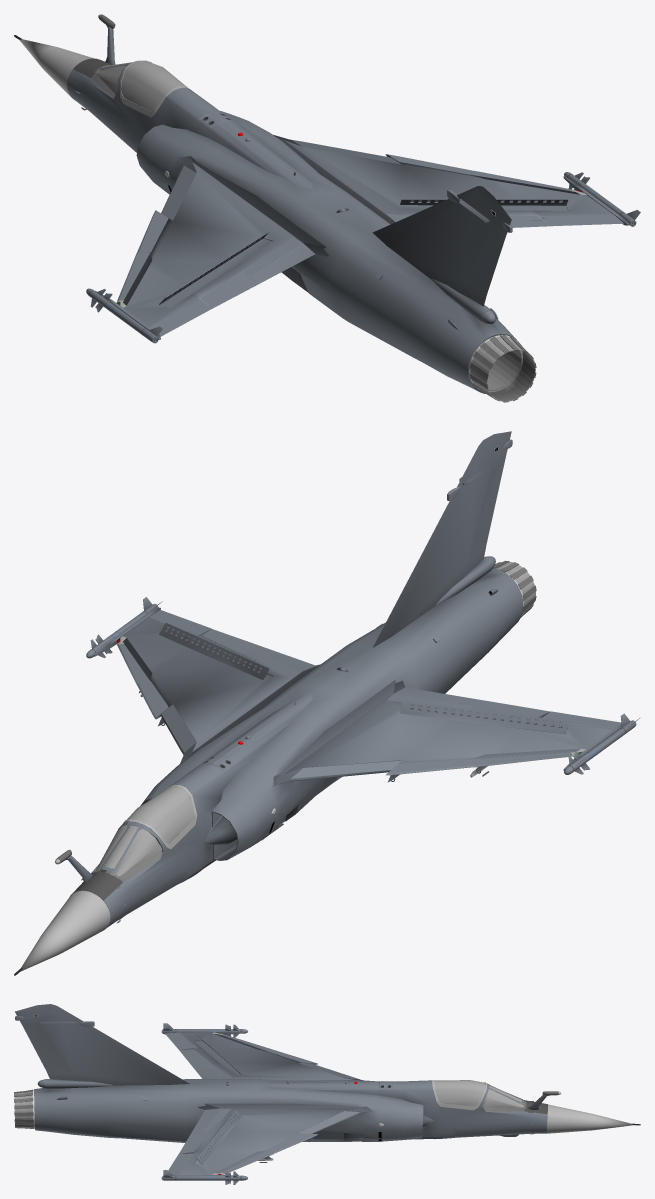
Rendered from e_mirage_f1.glb.
3 renders of one model, top to bottom at view 1: azimuth 30°, elevation 25°; view 2: azimuth 150°, elevation 25°; view 3: azimuth 270°, elevation 25°, orthographic. The views are drawn at different scales.
Parts seen in each view (by area): view 1: body|material_0#camo, body|Material.198#camo, body|Material.006, body|Material.007, body|Material.098, body|Material.122, body|Material.003; view 2: body|material_0#camo, body|Material.198#camo, body|Material.098, body|Material.006, body|Material.005; view 3: body|material_0#camo, body|Material.198#camo, body|Material.098, body|Material.006, body|Material.005, body|Material.003, body|Material.007, body|Material.004.
Boxes of the visible parts, x1=… form: body|material_0#camo: x1=75, y1=73, x2=640, y2=343; body|Material.198#camo: x1=67, y1=25, x2=519, y2=393; body|Material.006: x1=121, y1=61, x2=187, y2=111; body|Material.007: x1=470, y1=336, x2=535, y2=401; body|Material.098: x1=19, y1=39, x2=94, y2=100; body|Material.122: x1=469, y1=335, x2=522, y2=391; body|Material.003: x1=469, y1=335, x2=536, y2=402; body|material_0#camo: x1=81, y1=431, x2=640, y2=923; body|Material.198#camo: x1=66, y1=568, x2=523, y2=927; body|Material.098: x1=20, y1=890, x2=110, y2=971; body|Material.006: x1=127, y1=786, x2=194, y2=843; body|Material.005: x1=96, y1=825, x2=162, y2=876; body|material_0#camo: x1=15, y1=1004, x2=533, y2=1184; body|Material.198#camo: x1=34, y1=1079, x2=549, y2=1142; body|Material.098: x1=546, y1=1104, x2=633, y2=1133; body|Material.006: x1=434, y1=1080, x2=485, y2=1106; body|Material.005: x1=483, y1=1085, x2=523, y2=1108; body|Material.003: x1=14, y1=1089, x2=33, y2=1128; body|Material.007: x1=14, y1=1091, x2=33, y2=1127; body|Material.004: x1=432, y1=1080, x2=487, y2=1110.
Size of the model in its own units: 8.77 by 3.61 by 15.29.
Materials: 33 (7 with a texture image).
